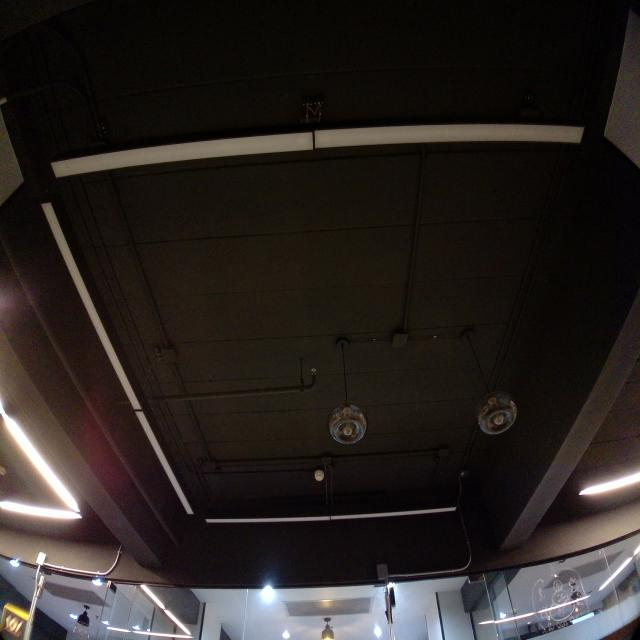lamp2_off: (34, 198, 202, 523), (44, 118, 590, 188), (201, 499, 462, 531)
